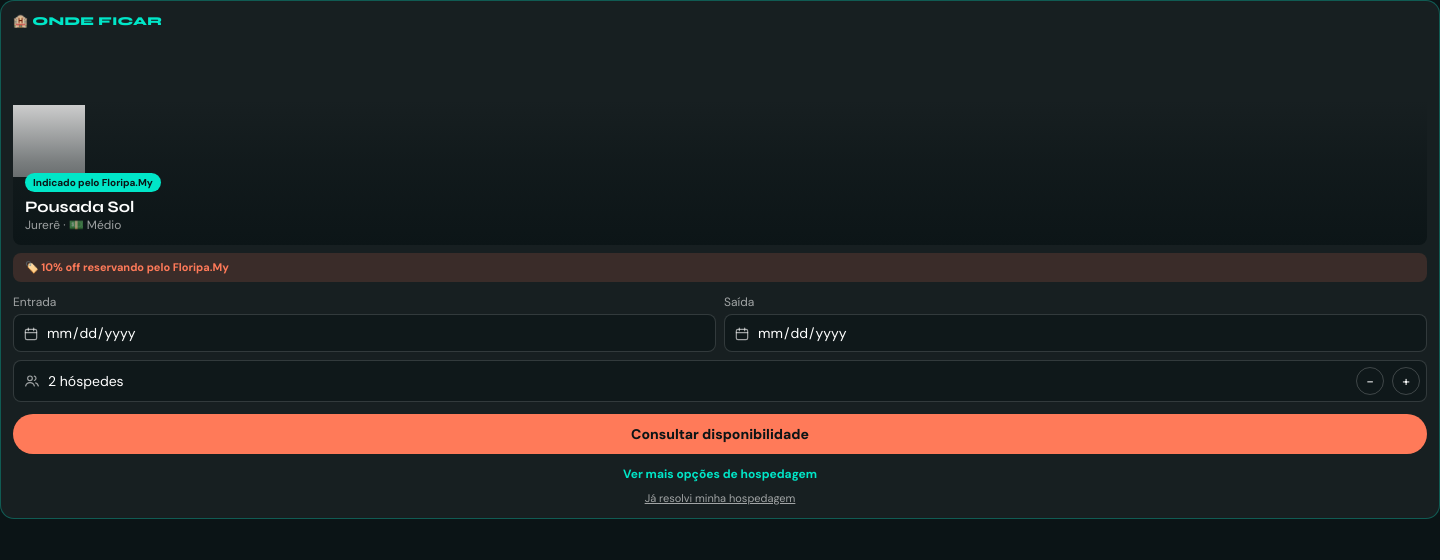
LodgingCard › blocks a check-out on the check-in day
Type "2027-01-12" into the date field labelled "Entrada" at x=364, y=332, box [13, 314, 716, 352]
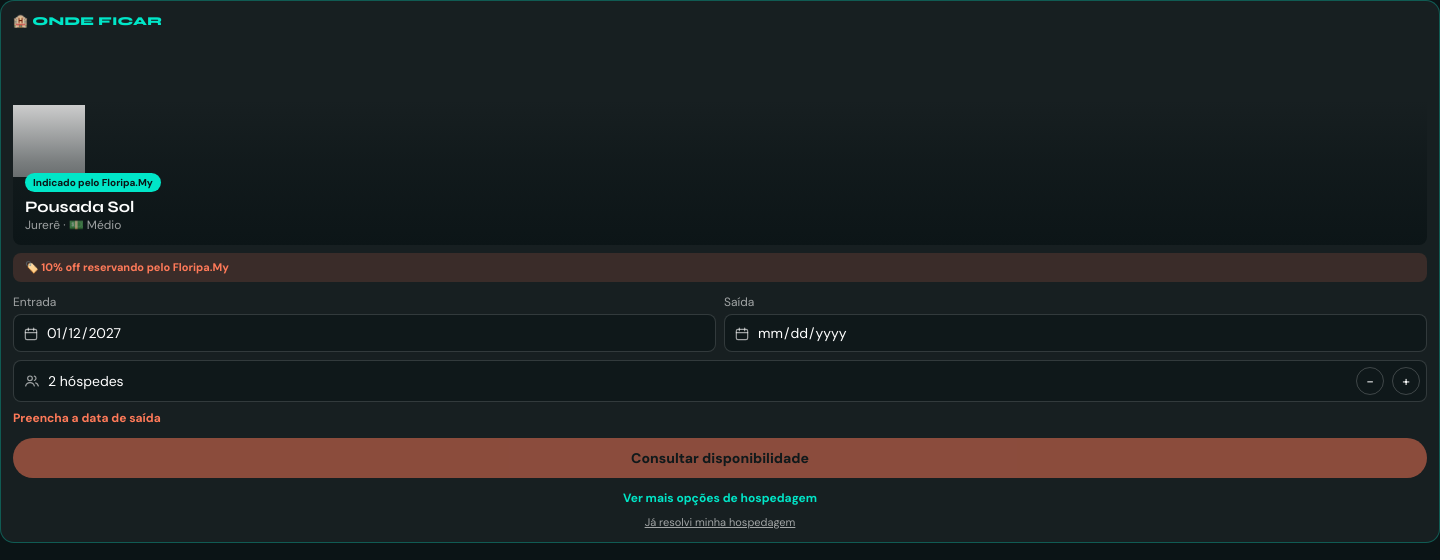
Type "2027-01-12" into the date field labelled "Saída" at x=1076, y=332, box [724, 314, 1427, 352]
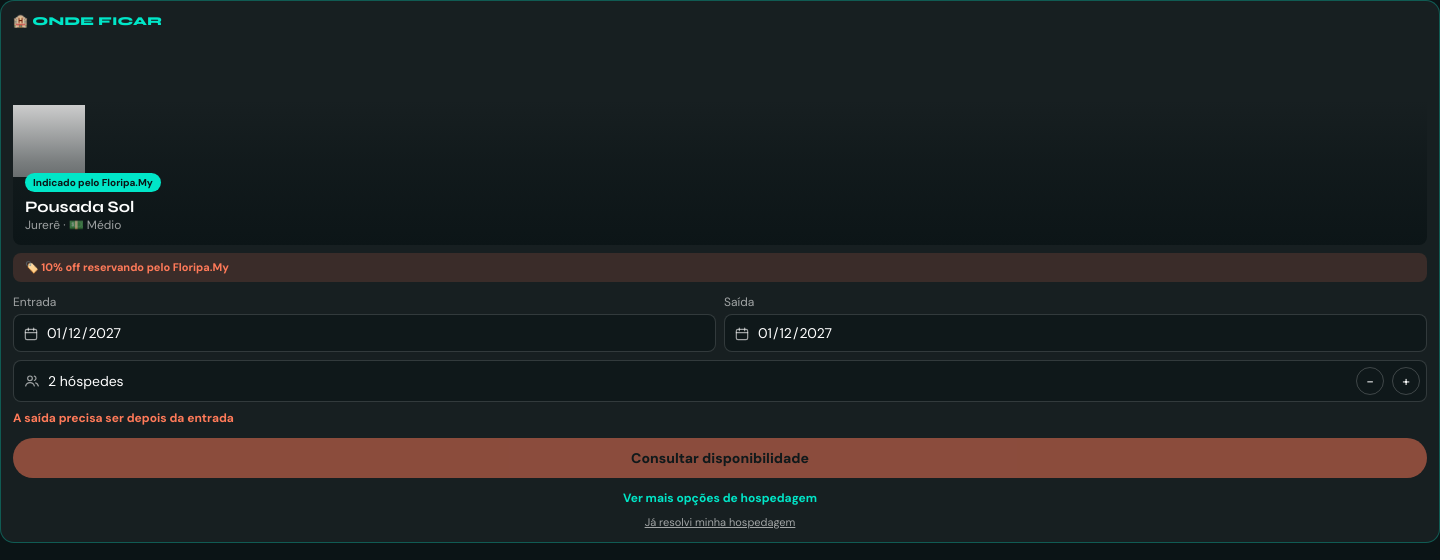
Now the text "A saída precisa ser depois da entrada" is shown, box [13, 410, 234, 426]
